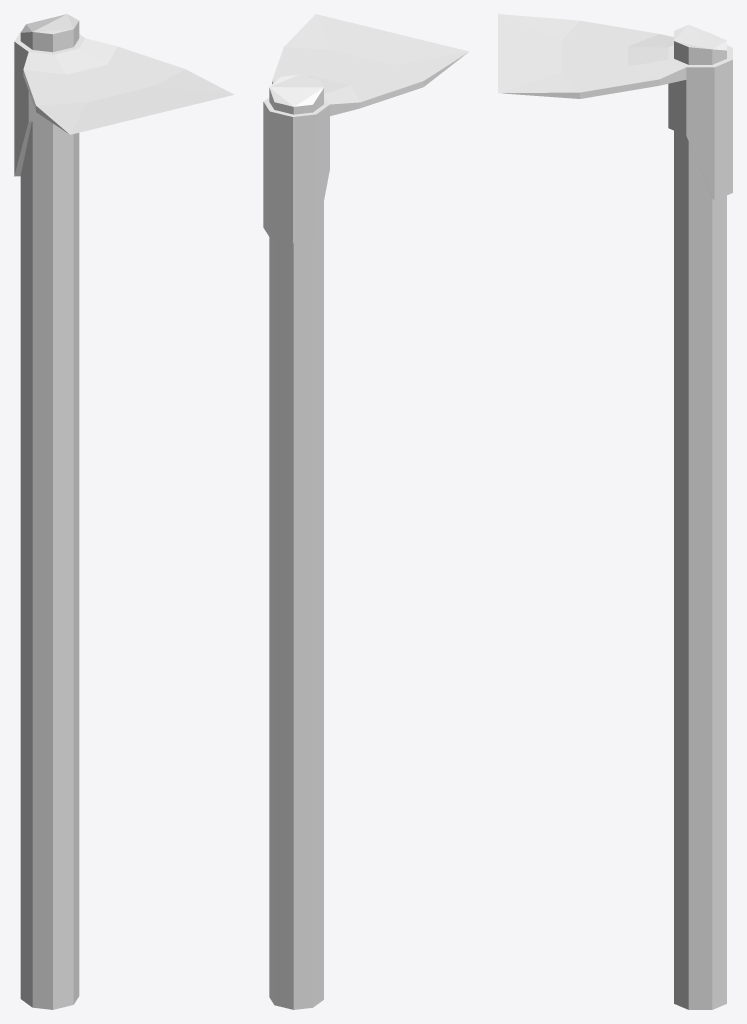
Rendered from Tool_Hoe_01.glb.
3 views of the same model, side by side, from view 1: azimuth 30°, elevation 25°; view 2: azimuth 150°, elevation 25°; view 3: azimuth 270°, elevation 25° (orthographic). The views are drawn at different scales.
Parts seen in each view (by area): view 1: Tool_Hoe_01; view 2: Tool_Hoe_01; view 3: Tool_Hoe_01.
Part boxes in pixels (box(x1,y1,x2,y2)): Tool_Hoe_01: box(14, 14, 234, 1009); Tool_Hoe_01: box(263, 14, 468, 1009); Tool_Hoe_01: box(498, 14, 732, 1009).
Size of the model in its own units: 0.2189 by 1.24 by 0.2741.
1 material, 1 textured.
